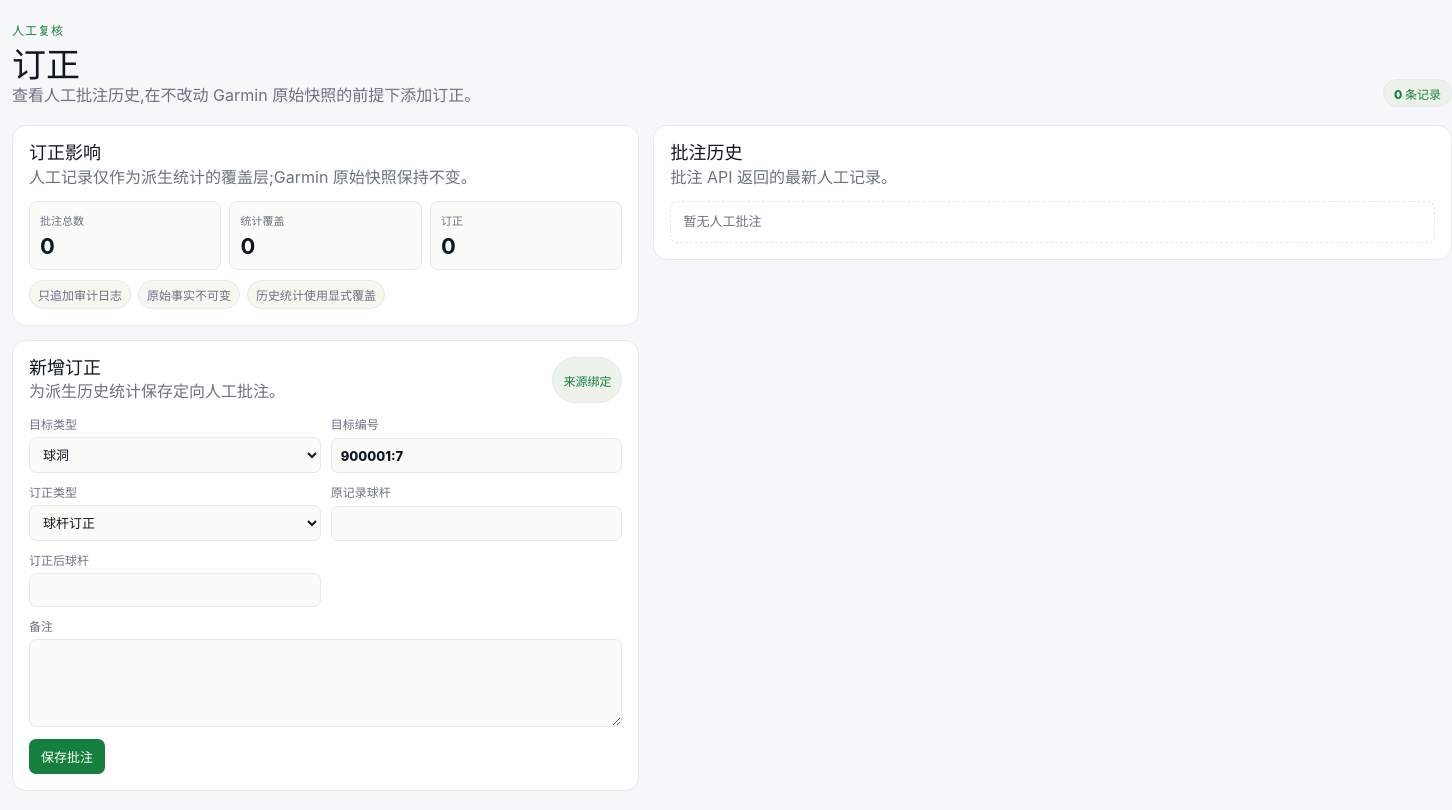
CorrectionsPage › restores the source-bound target type when saving after local target edits
Select "击球" in the dropdown labelled "目标类型" at (175, 455), box [29,437,321,473]
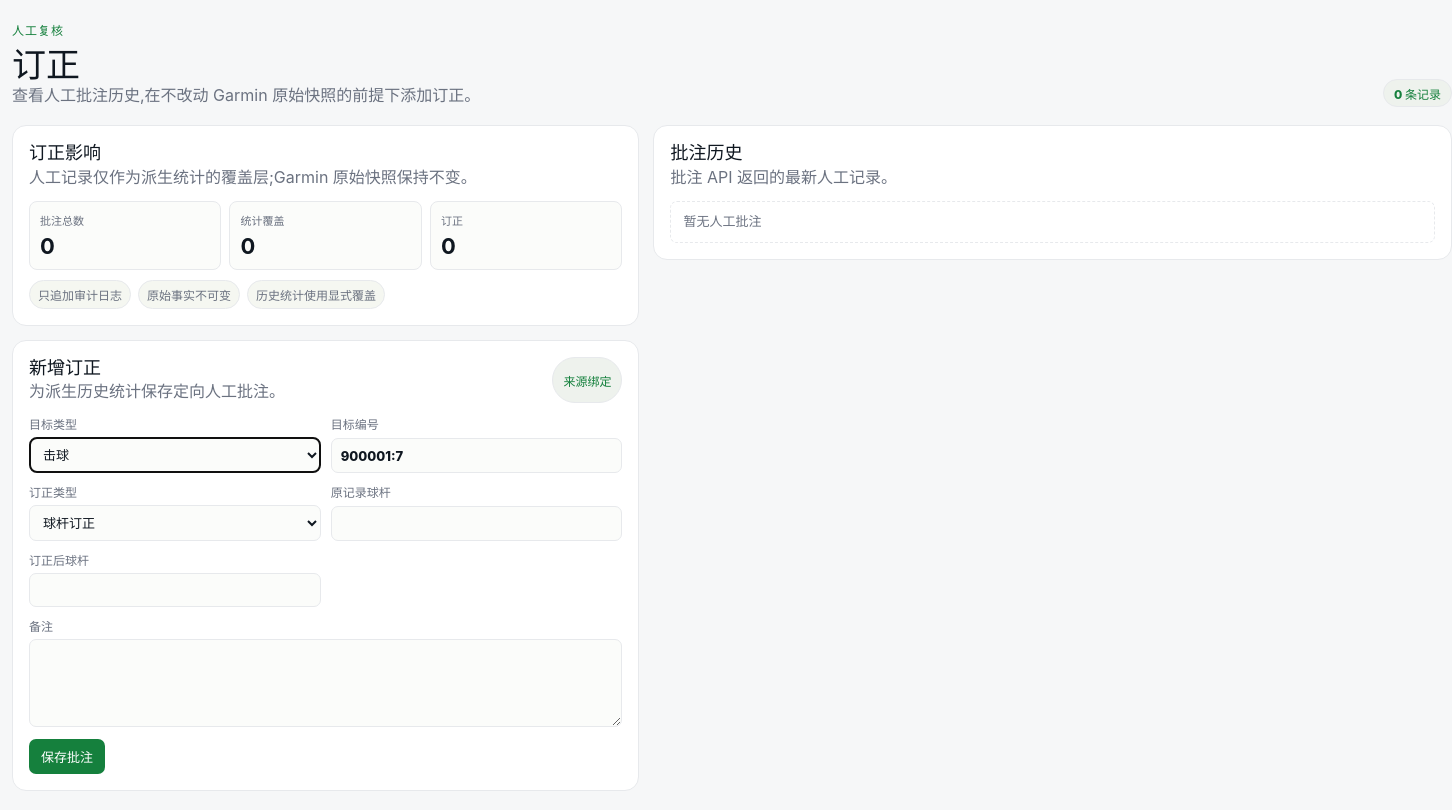
Replace the text in the field labelled "目标编号" with "900001:7:1" at (477, 456), box [331,438,622,473]
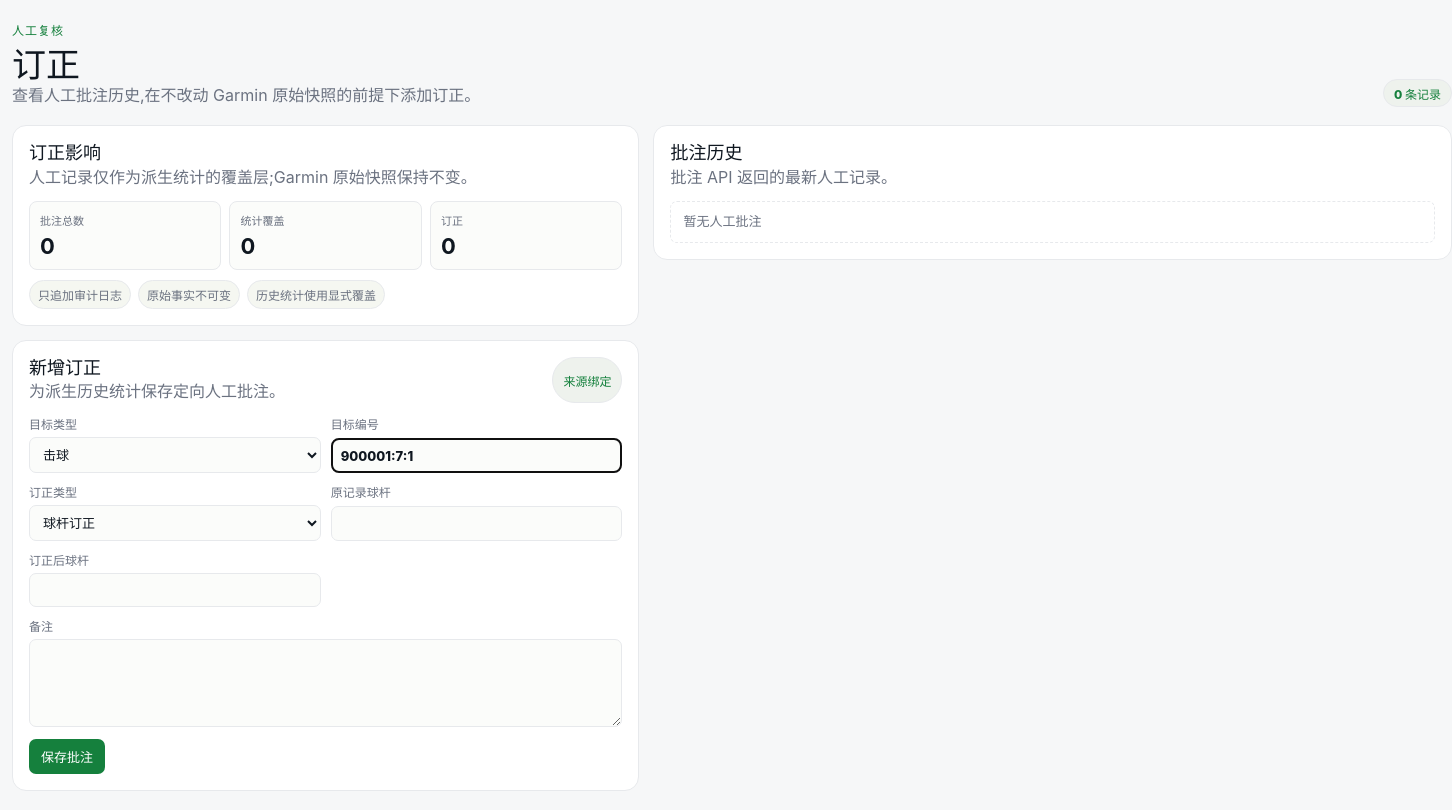
Select "备注" in the dropdown labelled "订正类型" at (175, 523), box [29,505,321,541]
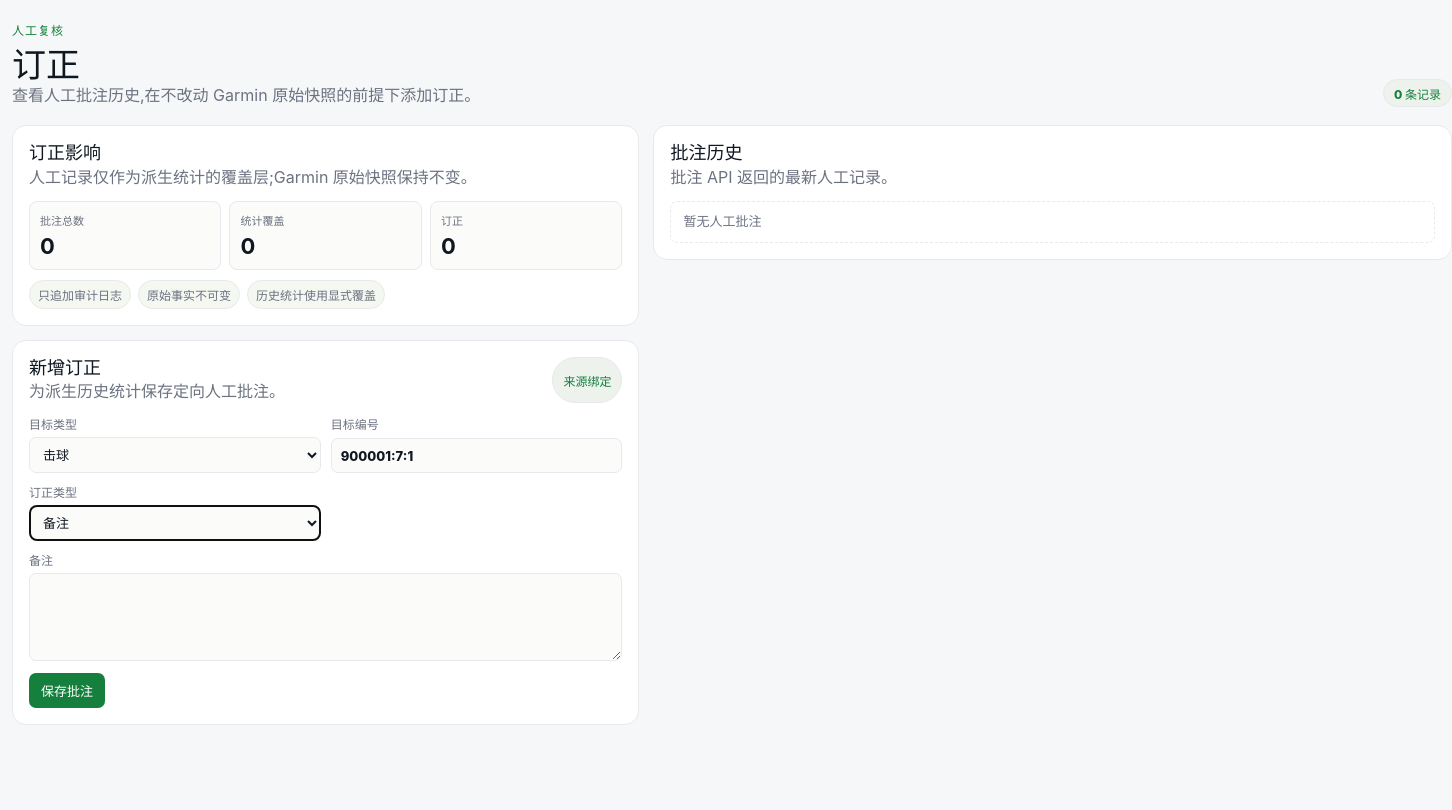
Type "Pin was back right" into the text box labelled "备注" at (326, 617), box [29,573,622,661]
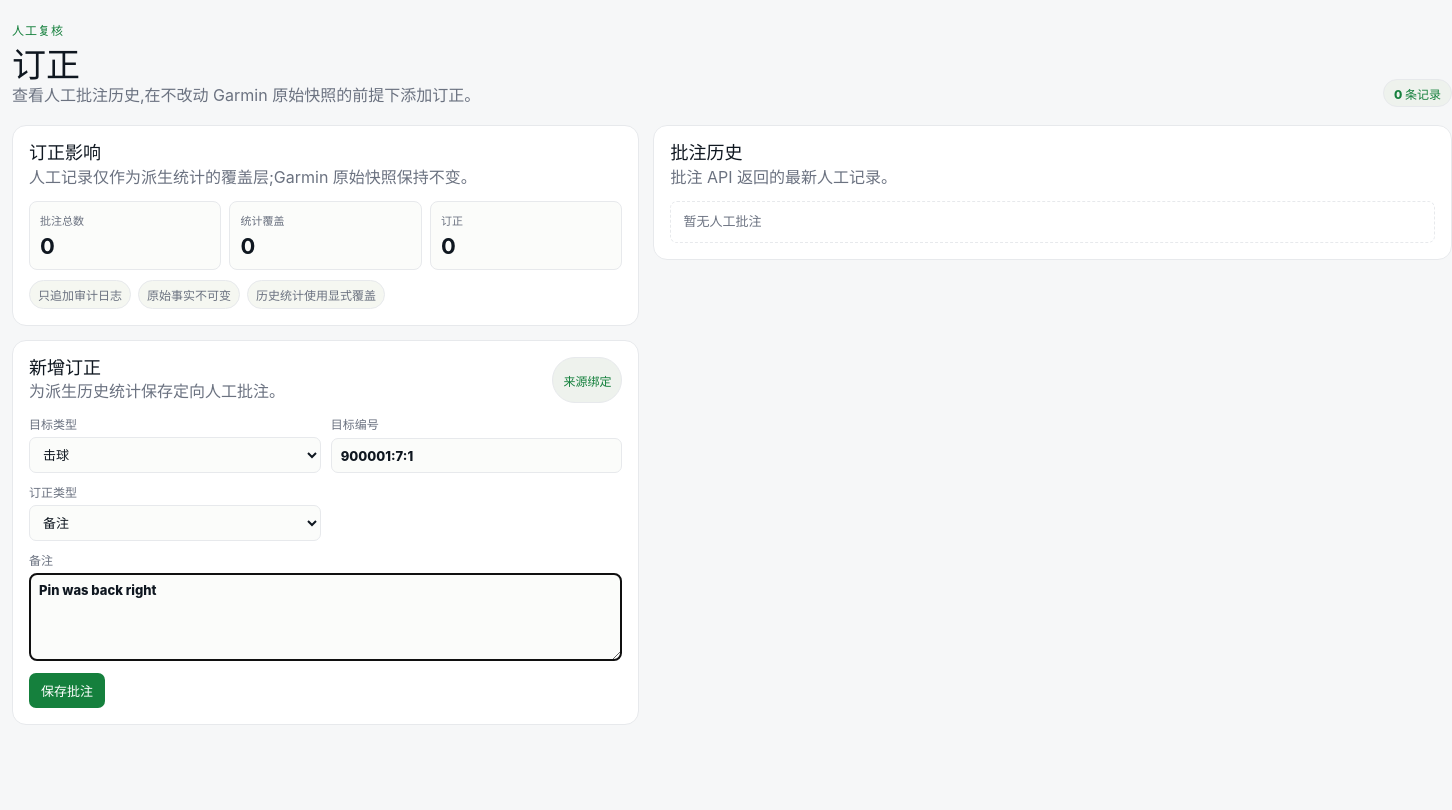
Click the button "保存批注" at (67, 691), box [29,673,105,708]
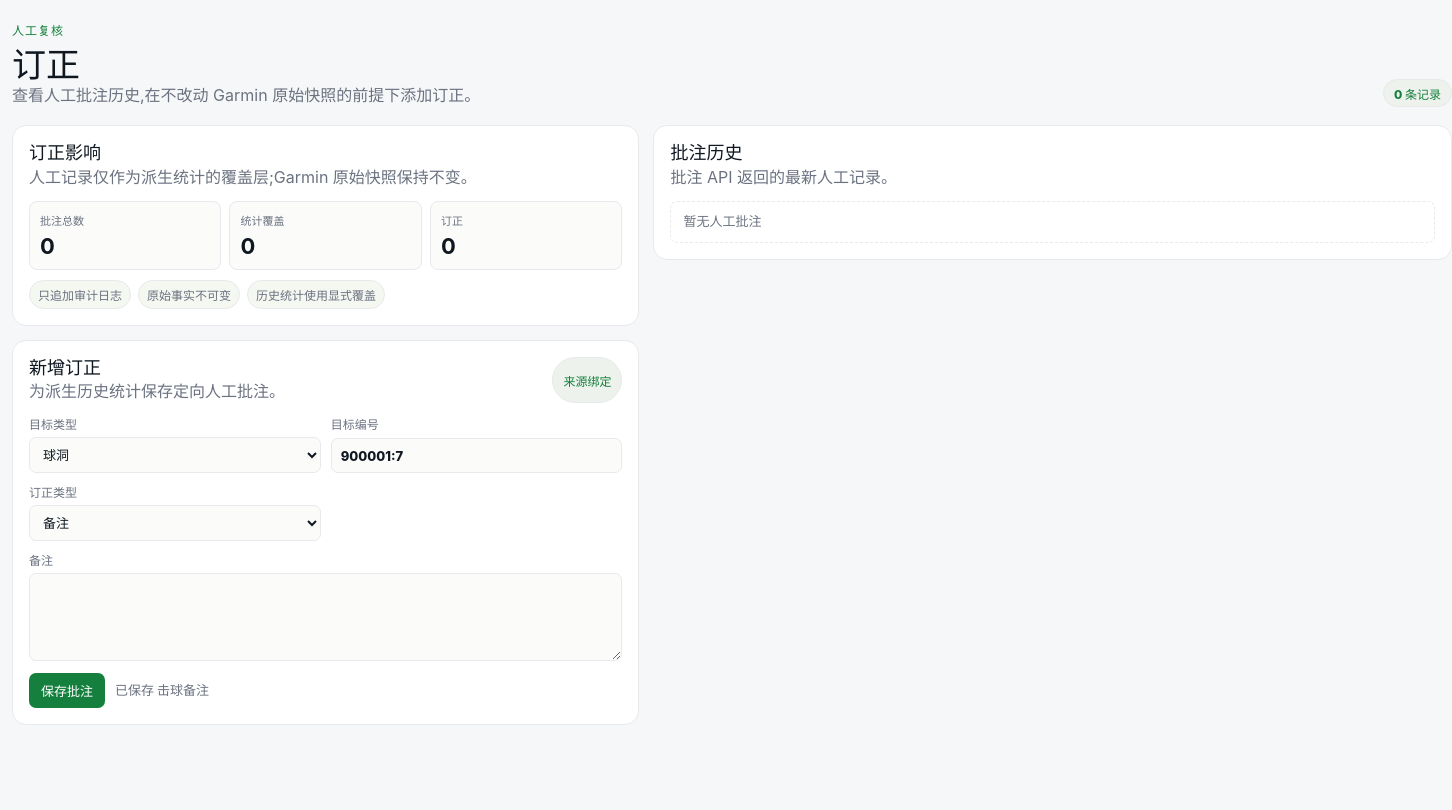
Check: the field labelled "目标编号" holds "900001:7", box [331,438,622,473]
